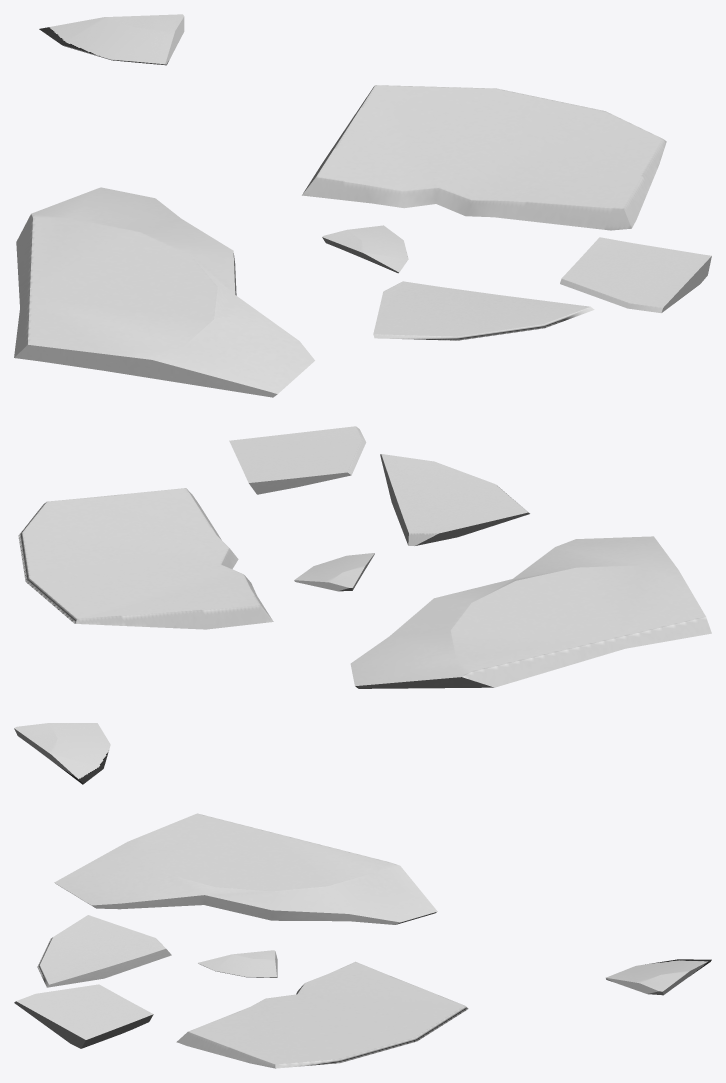
The model's file is plateRegularBroken.fbx.
The picture shows the model from 3 angles, top to bottom: view 1: azimuth 30°, elevation 25°; view 2: azimuth 150°, elevation 25°; view 3: azimuth 270°, elevation 25°; orthographic projection. The views are drawn at different scales.
Visible parts, largest first — view 1: plateRegularBroken; view 2: plateRegularBroken; view 3: plateRegularBroken.
Boxes of the visible parts, box(x1,y1,x2,y2) form: plateRegularBroken: box(14, 14, 711, 397); plateRegularBroken: box(14, 426, 711, 784); plateRegularBroken: box(14, 813, 711, 1068).
Bounding box in the file's own units: 0.4853 × 0.016 × 0.5588.
1 material, 1 textured.
